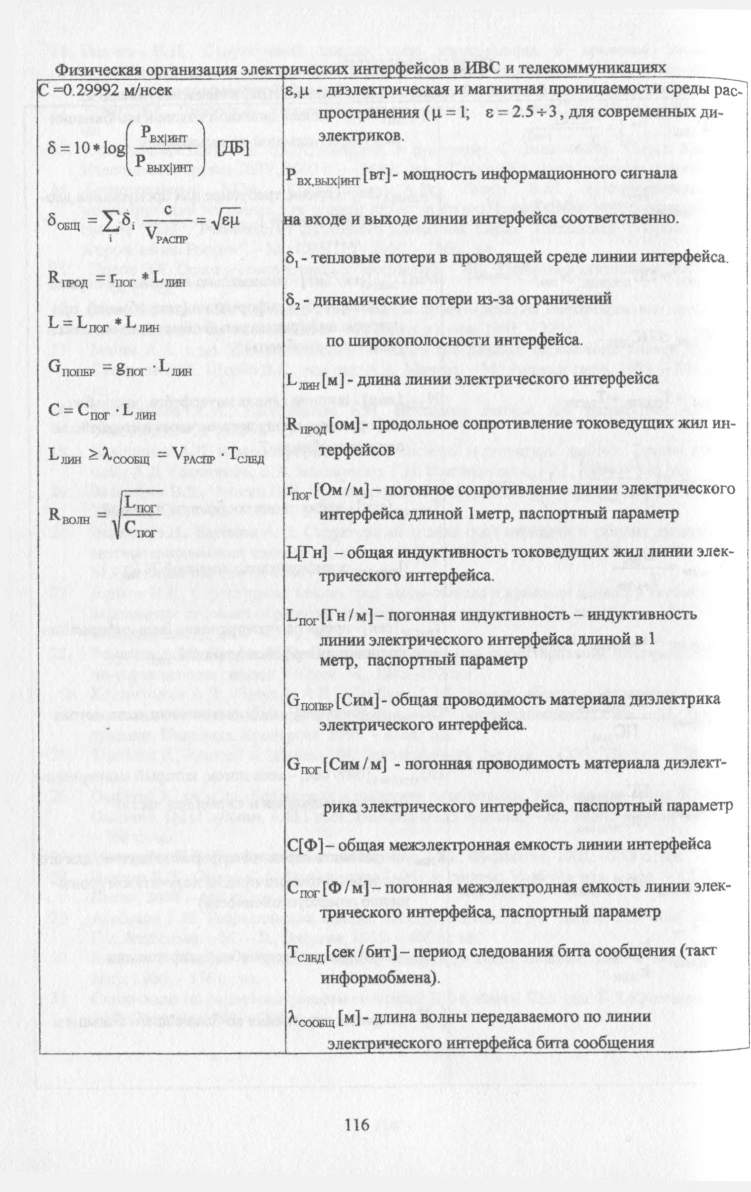symbol: (132, 157, 200, 179), (40, 207, 83, 237), (168, 443, 215, 470), (47, 262, 85, 294), (139, 122, 190, 145), (52, 354, 93, 381), (146, 266, 188, 292), (44, 506, 91, 528), (44, 444, 83, 468), (145, 226, 189, 247), (227, 443, 263, 468), (121, 400, 158, 422), (76, 312, 108, 337), (125, 312, 155, 337), (115, 356, 147, 379), (105, 271, 136, 293), (120, 495, 160, 512), (161, 355, 187, 380), (77, 400, 105, 422), (124, 520, 158, 536), (120, 208, 136, 232), (45, 313, 64, 330), (44, 135, 58, 157), (155, 203, 177, 217), (47, 398, 59, 421), (215, 212, 229, 229), (230, 211, 243, 228)
